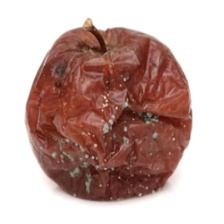apple: (18, 0, 196, 186)
